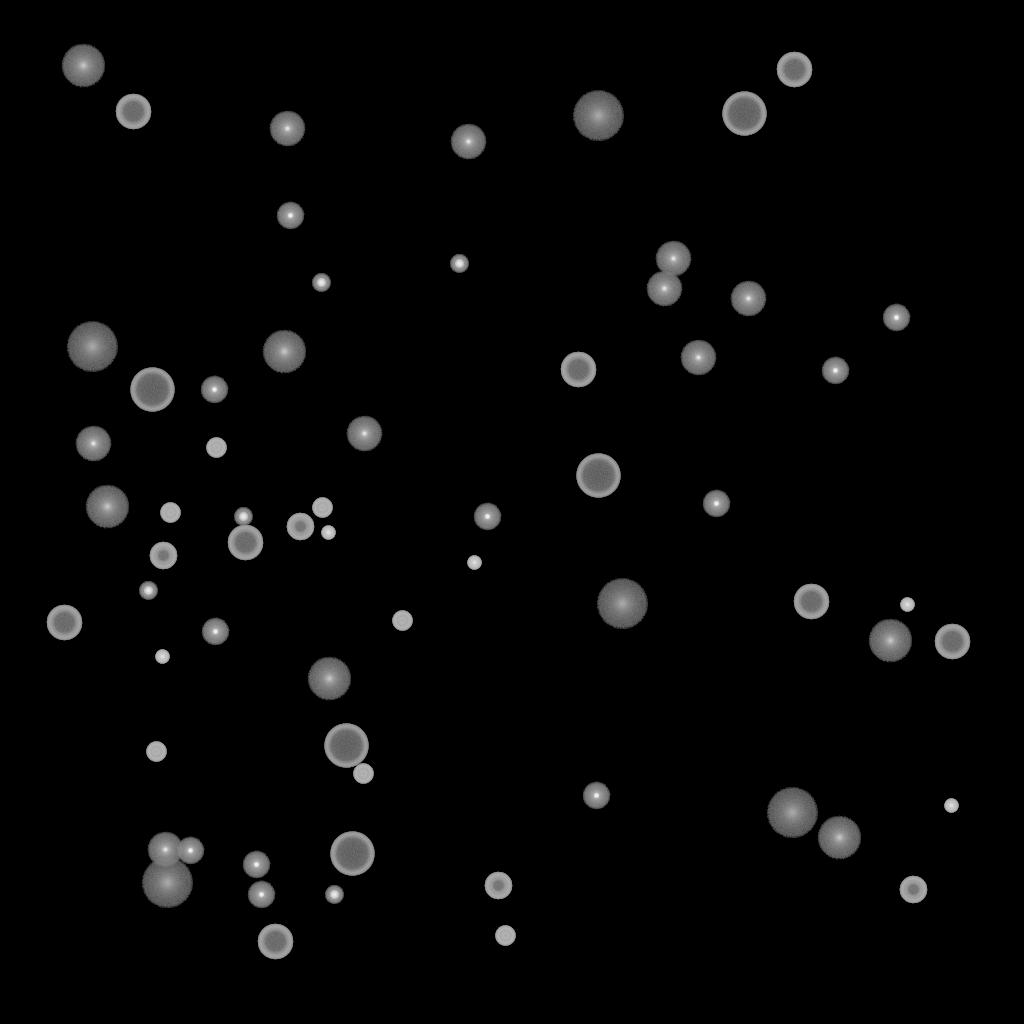depth:-10: (702, 490, 730, 518), (882, 304, 910, 332), (201, 618, 229, 646), (176, 837, 204, 865), (473, 503, 501, 531), (276, 202, 304, 230), (582, 782, 610, 810), (247, 881, 275, 909), (821, 357, 849, 385), (242, 851, 270, 879), (200, 376, 228, 404)
depth:-20: (450, 255, 468, 273), (312, 274, 330, 292), (234, 508, 252, 526), (325, 886, 343, 904), (139, 582, 157, 600)
depth:-30: (155, 650, 169, 664), (900, 598, 914, 612), (321, 526, 335, 540), (467, 556, 481, 570), (944, 799, 958, 813)
depth:-40: (206, 438, 226, 458), (392, 611, 412, 631), (312, 498, 332, 518), (353, 764, 373, 784), (160, 503, 180, 523), (495, 926, 515, 946), (146, 742, 166, 762)
depth:-50: (484, 872, 512, 900), (899, 876, 927, 904), (286, 513, 314, 541), (149, 542, 177, 570)
depth:-60: (115, 94, 151, 130), (46, 605, 82, 641), (934, 624, 970, 660), (776, 52, 812, 88), (793, 584, 829, 620), (257, 924, 293, 960), (560, 352, 596, 388), (227, 525, 263, 561)
depth:-70: (330, 832, 374, 876), (576, 454, 620, 498), (130, 368, 174, 412), (324, 724, 368, 768), (722, 92, 766, 136)
depth:0: (450, 124, 486, 160), (730, 281, 766, 317), (655, 241, 691, 277), (646, 271, 682, 307), (680, 340, 716, 376), (346, 416, 382, 452), (147, 832, 183, 868), (75, 426, 111, 462), (269, 111, 305, 147)
depth:10: (262, 330, 306, 374), (868, 619, 912, 663), (85, 485, 129, 529), (61, 44, 105, 88), (817, 816, 861, 860), (307, 657, 351, 701)
depth:20: (596, 579, 648, 629), (766, 788, 818, 838), (66, 322, 118, 372), (141, 858, 193, 908), (572, 91, 624, 141)
